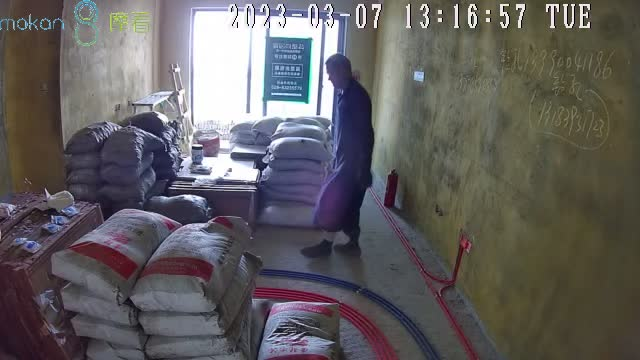people: (299, 54, 375, 258)
window: (192, 9, 340, 126)
